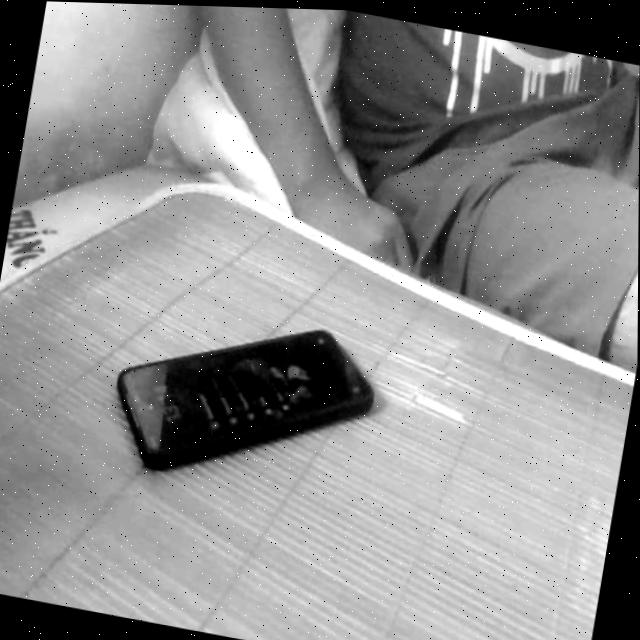phone: (85, 274, 402, 528)
